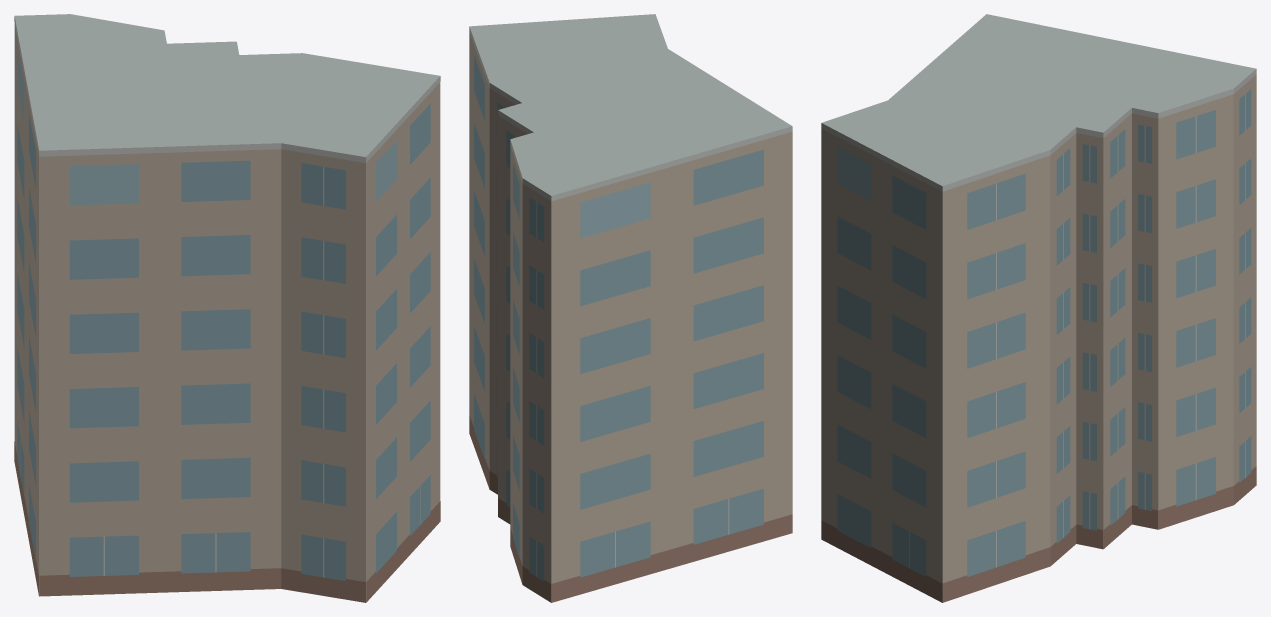
Rendered from survey-upis-32663348.glb.
3 views of the same model, side by side, from view 1: azimuth 30°, elevation 25°; view 2: azimuth 150°, elevation 25°; view 3: azimuth 270°, elevation 25° (orthographic). The views are drawn at different scales.
Visible parts, largest first — view 1: survey-upis-32663348.tmp; view 2: survey-upis-32663348.tmp; view 3: survey-upis-32663348.tmp.
Part boxes in pixels (bbox=[...]): survey-upis-32663348.tmp: bbox=[14, 14, 440, 602]; survey-upis-32663348.tmp: bbox=[469, 14, 792, 602]; survey-upis-32663348.tmp: bbox=[821, 14, 1256, 602].
Bounding box in the file's own units: 16.24 × 18.3 × 17.33.
